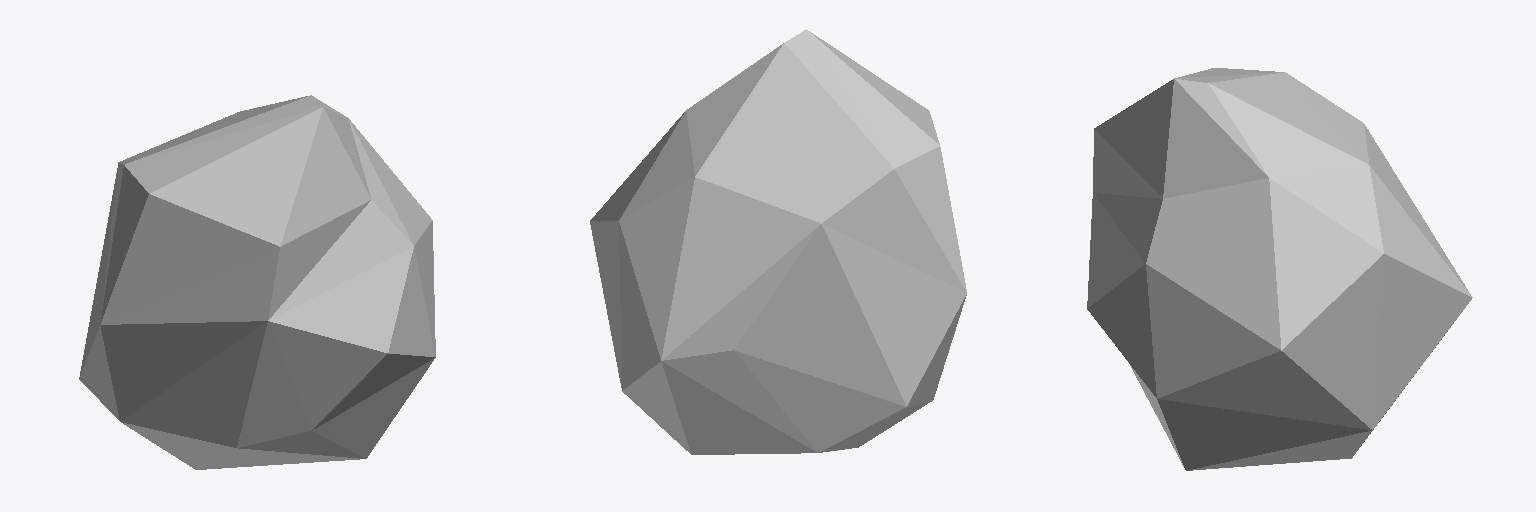
The model's file is rock1.obj.
The picture shows the model from 3 angles: view 1: azimuth 30°, elevation 25°; view 2: azimuth 150°, elevation 25°; view 3: azimuth 270°, elevation 25°; orthographic projection.
Visible parts, largest first — view 1: rock1_Cube.022; view 2: rock1_Cube.022; view 3: rock1_Cube.022.
Part boxes in pixels (left/top/right/bottom): rock1_Cube.022: left=79, top=95, right=435, bottom=469; rock1_Cube.022: left=590, top=29, right=966, bottom=454; rock1_Cube.022: left=1087, top=68, right=1472, bottom=470.
Bounding box in the file's own units: 82.01 × 81.42 × 77.17.